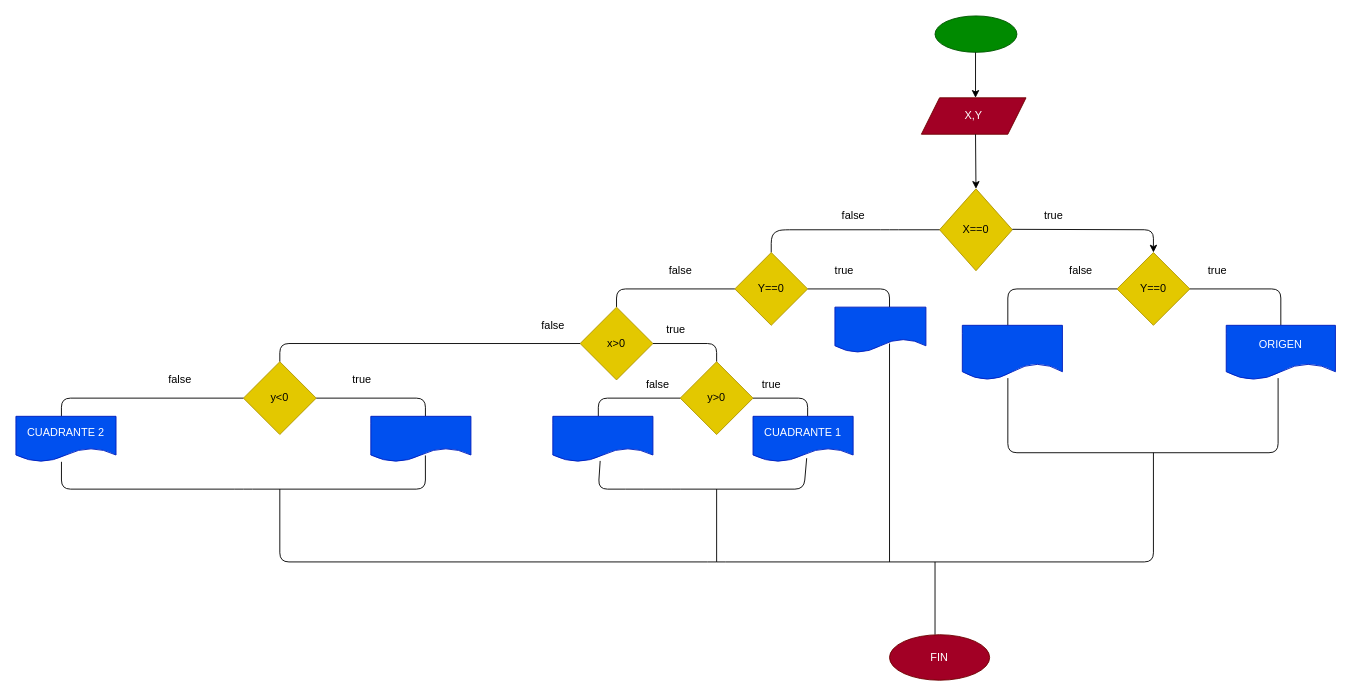
Some shapes in this 1351 by 696 pixel diagram are drawn without their labels. Here are the shapes that lost their labels. From the top down, the centre of each, then its label:
At [975,33]: "INICIO".
At [880,329]: "Eje x".
At [1011,352]: "Eje y".
At [420,438]: "CUADRANTE 3".
At [602,438]: "CUADRANTE 4".
